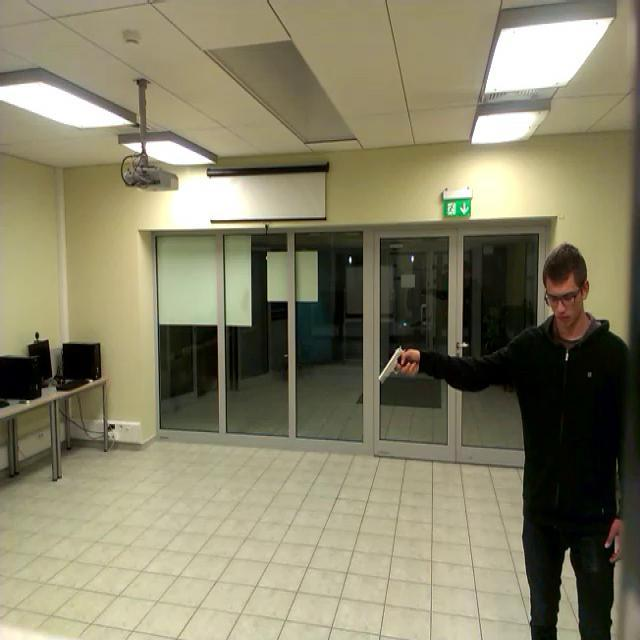Gun: (378, 344, 416, 382)
